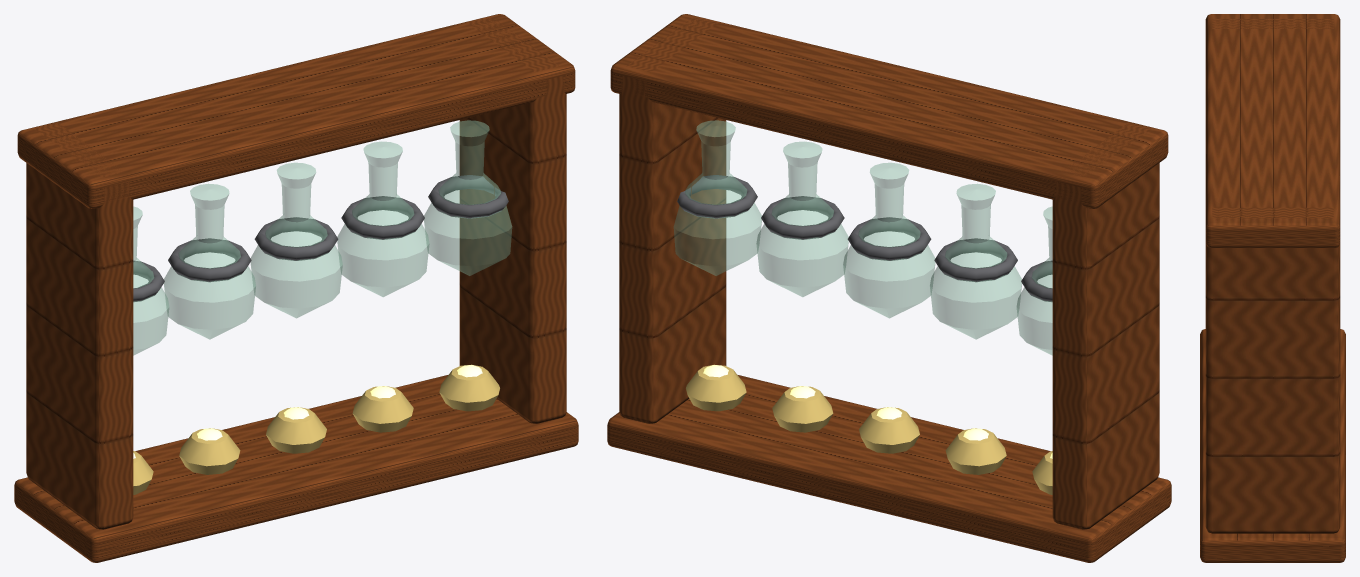
The model's file is witch-cottage-and-apothecary-distillation-flask-rack-fa91306a__32469.glb.
The picture shows the model from 3 angles, left to right: view 1: azimuth 30°, elevation 25°; view 2: azimuth 150°, elevation 25°; view 3: azimuth 270°, elevation 25°; orthographic projection. The views are drawn at different scales.
Parts seen in each view (by area): view 1: distillation-flask-rack; view 2: distillation-flask-rack; view 3: distillation-flask-rack.
Boxes of the visible parts, x1,y1,x2,y2 form: distillation-flask-rack: (14, 14, 578, 562); distillation-flask-rack: (607, 14, 1171, 562); distillation-flask-rack: (1200, 14, 1345, 562).
Bounding box in the file's own units: 0.9 × 0.67 × 0.26.
5 materials, 1 textured.
